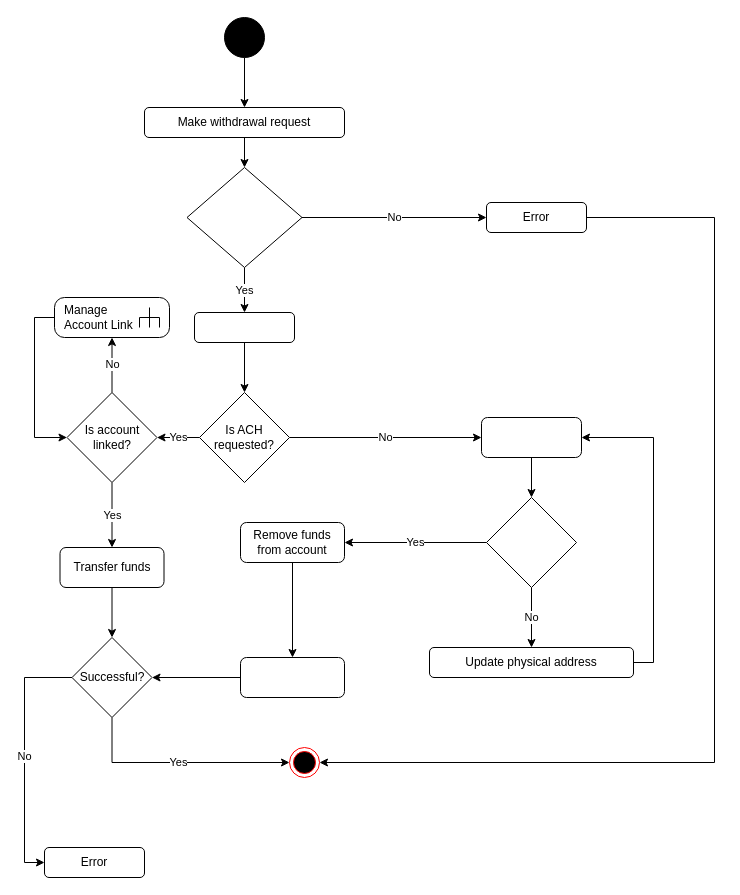
The diagram is 740 pixels wide and 895 high, and some of its shapes have lost their labels. Here are the shapes that lost their labels. From the top down, the centre of each, then its label:
At [244,217]: "Is sufficient cash available?".
At [244,327]: "Lock funds".
At [531,437]: "Confirm physical address".
At [531,542]: "Is physical address accurate?".
At [292,677]: "Notify accounting".
